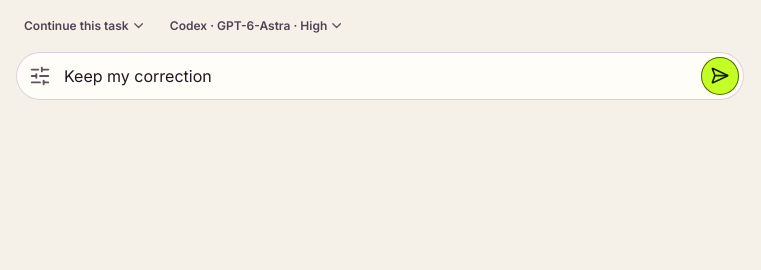
Test case: stale Continue keeps text, refreshes the task, explains changes and never retries itself
The width and height of the screenshot is (761, 270).
Click the button named "Continue" at (720, 76), box x1=701 y1=57 x2=739 y2=95
Wait 400 ms
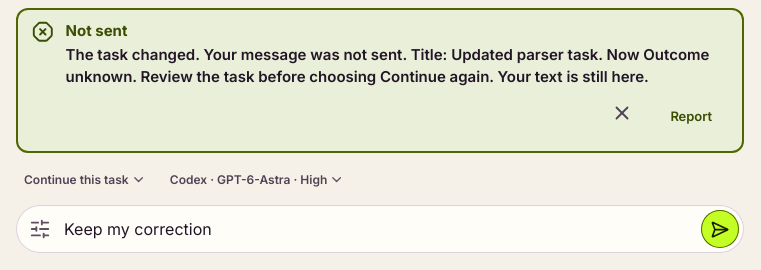
Check: the text "Now Outcome unknown" is shown, box x1=66 y1=45 x2=709 y2=86
